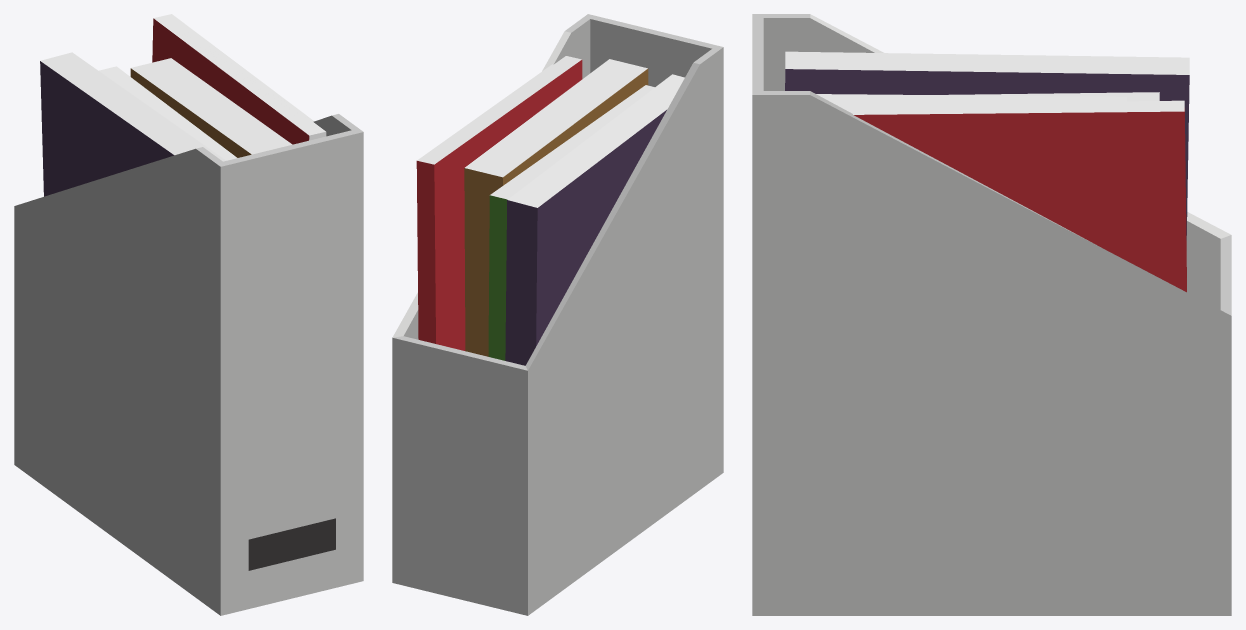
Rendered from furniture-holder-file-full.glb.
3 views of the same model, side by side, from view 1: azimuth 30°, elevation 25°; view 2: azimuth 150°, elevation 25°; view 3: azimuth 270°, elevation 25° (orthographic). The views are drawn at different scales.
Visible parts, largest first — view 1: holder-file-full; view 2: holder-file-full; view 3: holder-file-full.
Part boxes in pixels (<box>): holder-file-full: <box>14,14,363,615</box>; holder-file-full: <box>392,14,723,615</box>; holder-file-full: <box>752,14,1231,615</box>.
Bounding box in the file's own units: 0.1 × 0.3 × 0.25.
